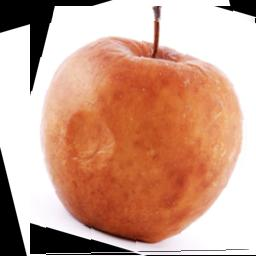Apple Rotten: (30, 7, 256, 256)
